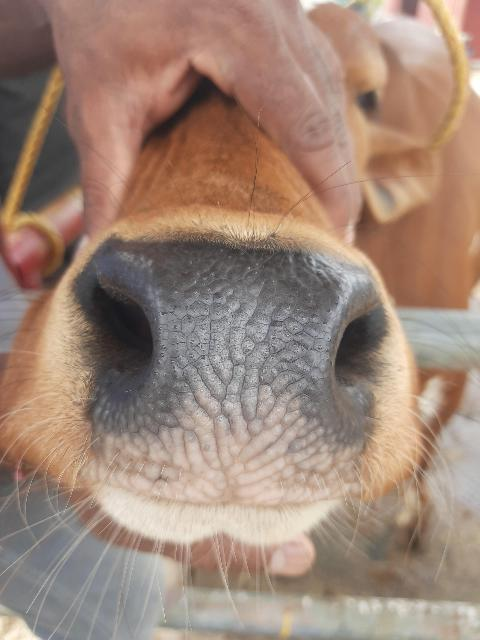Muzzle: (96, 246, 362, 504)
